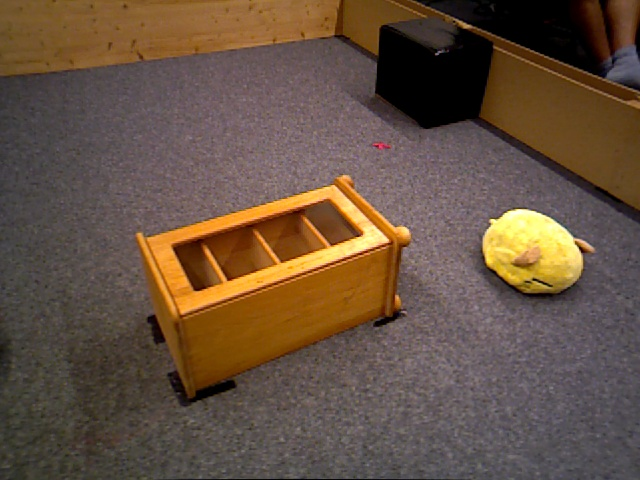grasp: (482, 207, 584, 297)
push: (380, 23, 487, 126)
